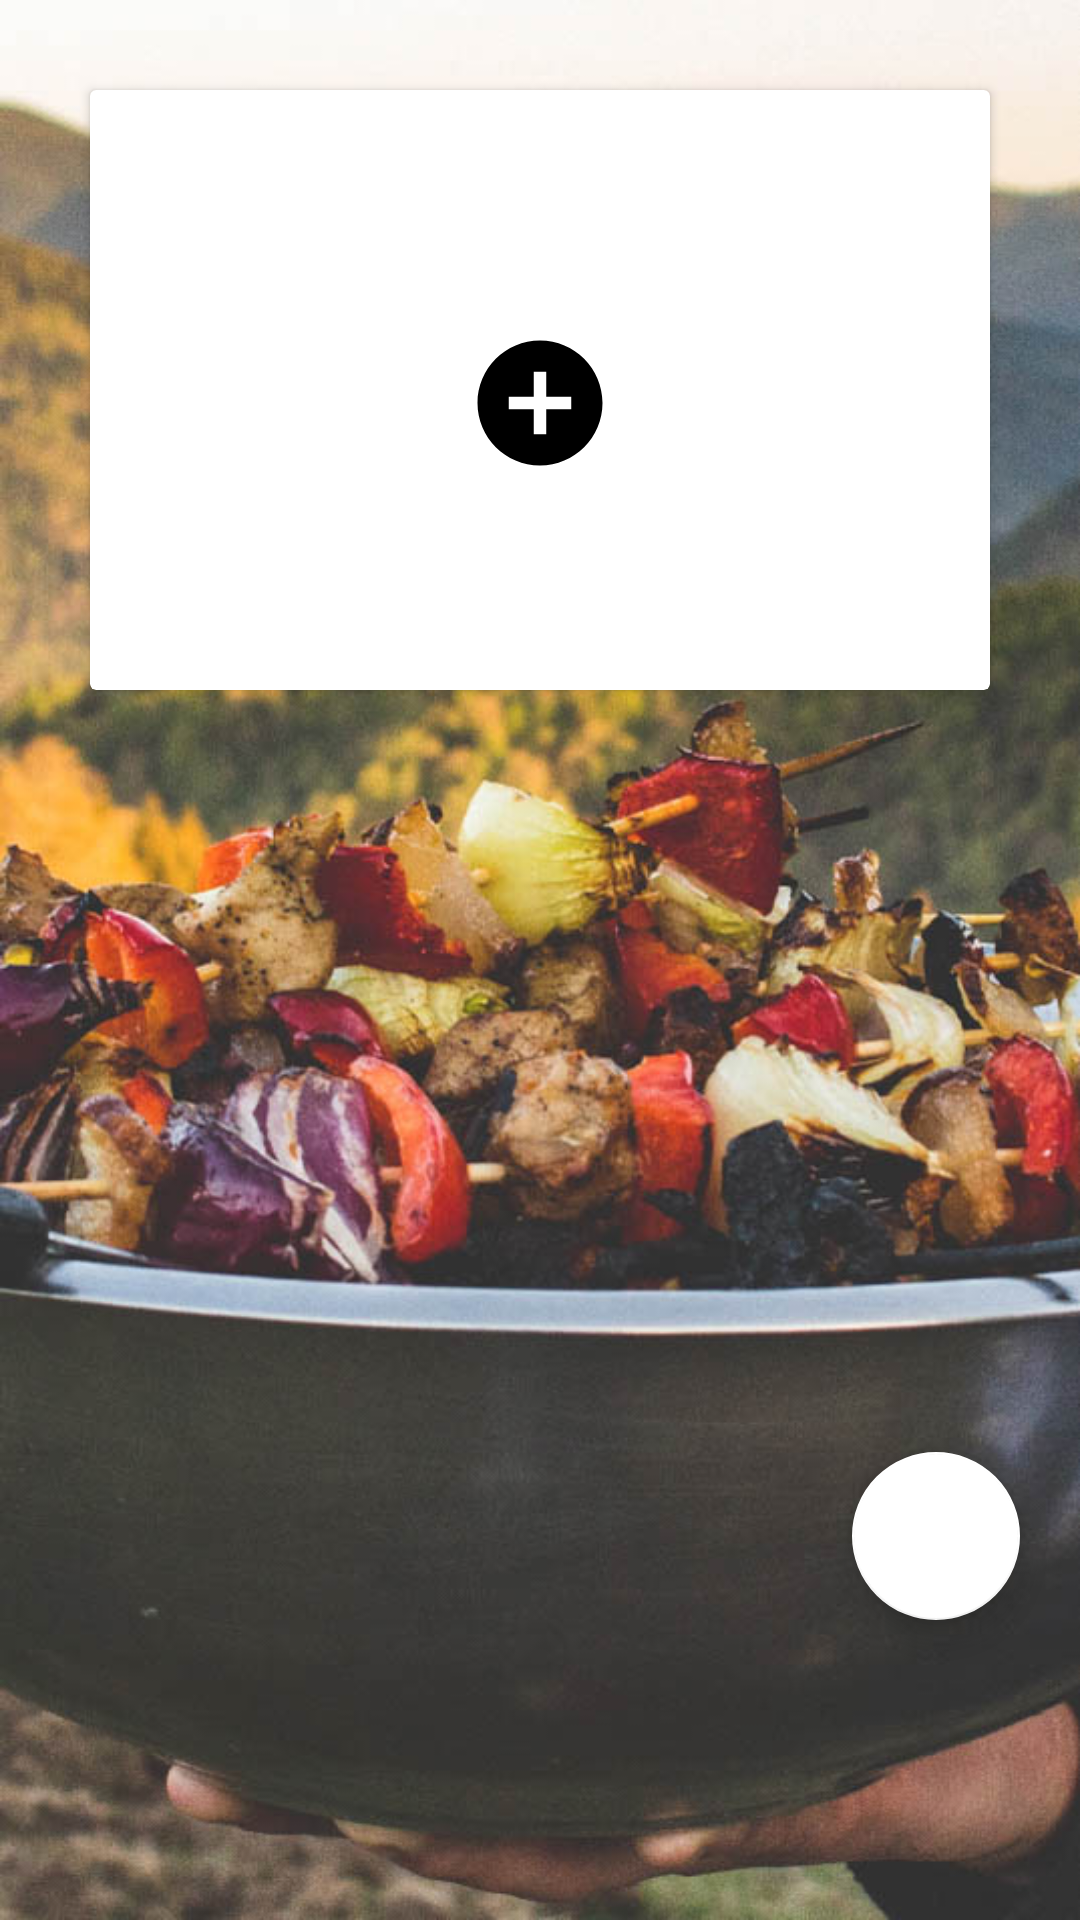

Icons on this 1080 x 1920 Android screen, each with the point to tap as point (x, y):
add circle: point (540, 403)
